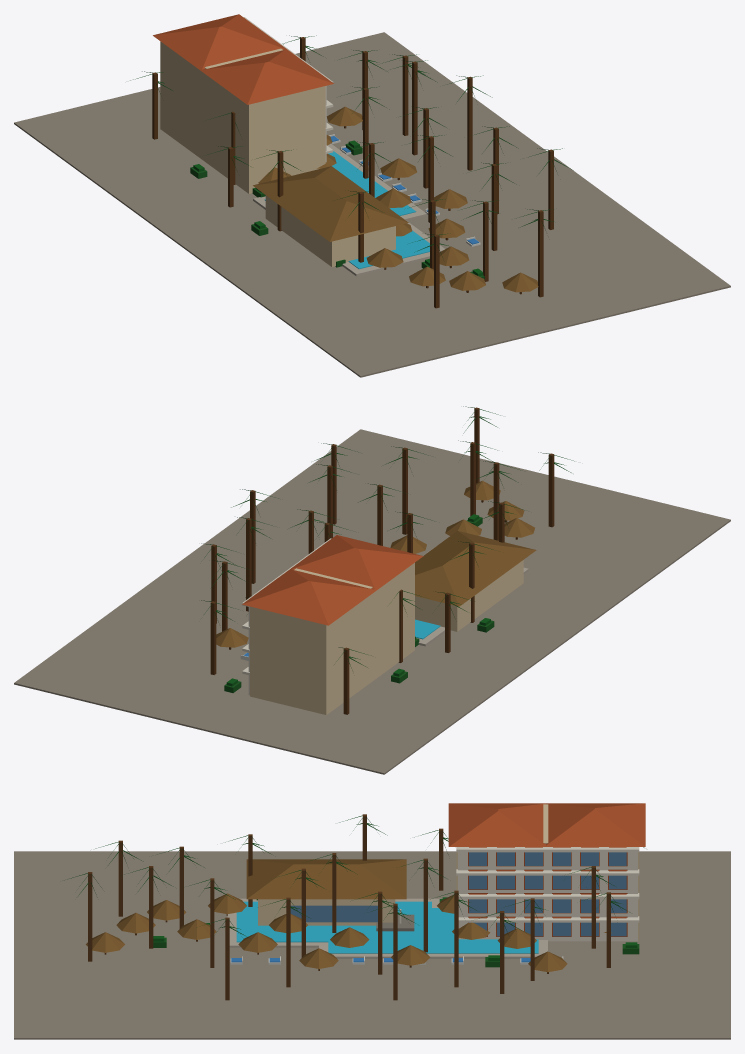
Rendered from costalinda.glb.
3 renders of one model, top to bottom at view 1: azimuth 30°, elevation 25°; view 2: azimuth 150°, elevation 25°; view 3: azimuth 270°, elevation 25°, orthographic. The views are drawn at different scales.
Visible parts, largest first — view 1: costalinda_lod0; view 2: costalinda_lod0; view 3: costalinda_lod0.
Boxes of the visible parts, x1,y1,x2,y2 form: costalinda_lod0: (14, 14, 730, 377); costalinda_lod0: (14, 406, 730, 774); costalinda_lod0: (14, 803, 730, 1039).
Size of what is drawn, in the model's own units: 58 by 16.65 by 94.
